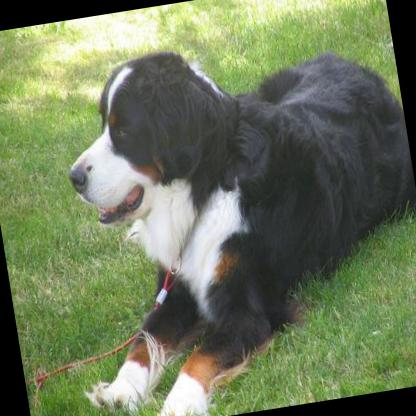Bernese_mountain_dog: (31, 11, 416, 416)
